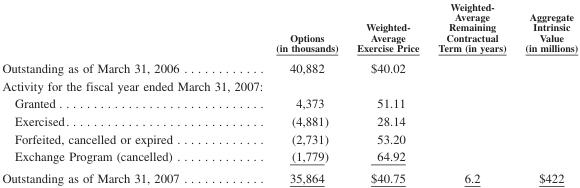table: (1, 0, 577, 184)
table column: (1, 0, 227, 184), (227, 0, 346, 184), (427, 0, 515, 184), (346, 0, 427, 184), (515, 0, 577, 184)
table column header: (1, 0, 577, 56)
table projected row header: (1, 76, 577, 94)
table row: (1, 0, 577, 56), (1, 56, 577, 76), (1, 147, 577, 166), (1, 76, 577, 94), (1, 111, 577, 129), (1, 129, 577, 147), (1, 166, 577, 184), (1, 94, 577, 111)
